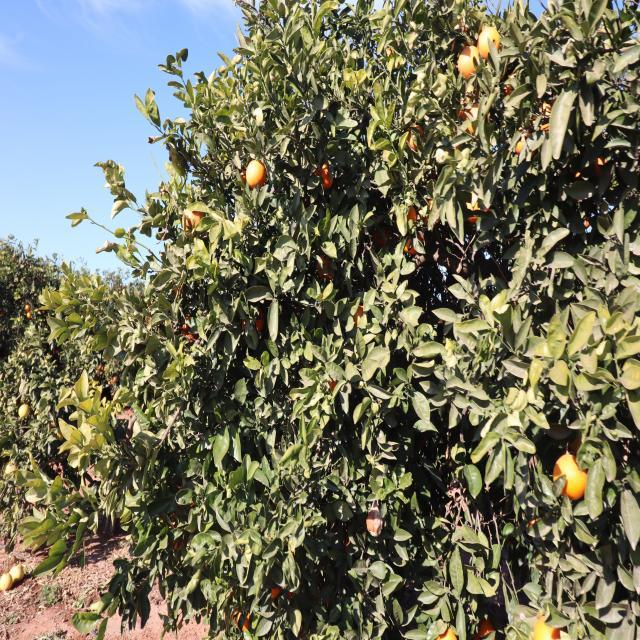Jeruk Sudah Matang: (554, 447, 591, 503), (456, 40, 482, 81), (476, 27, 502, 58), (243, 160, 270, 189), (315, 165, 337, 192), (235, 612, 250, 632), (270, 588, 280, 596)
